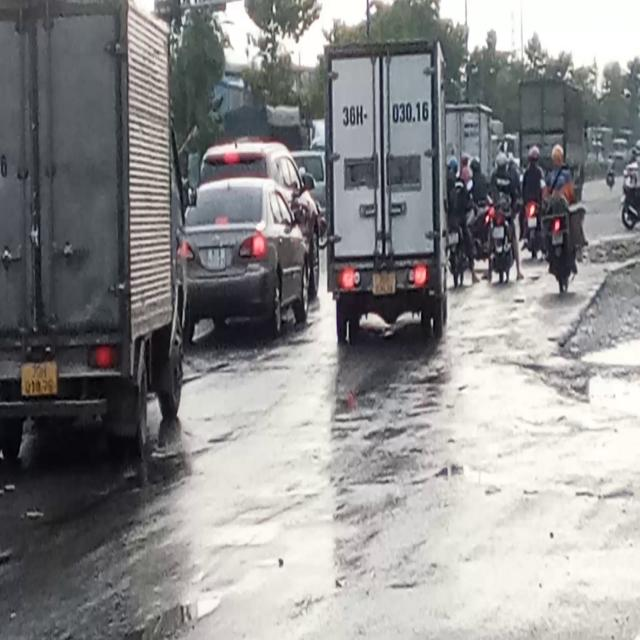bien_vang: (20, 356, 60, 400)
